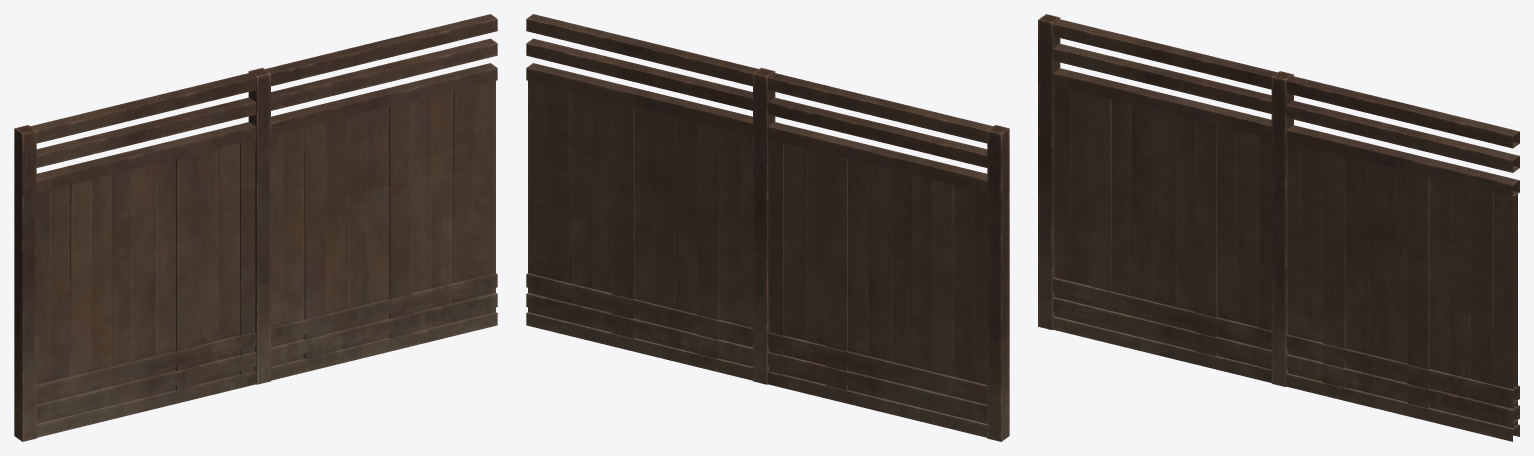
The model's file is Wall_07a.fbx.
3 renders of one model, left to right at view 1: azimuth 30°, elevation 25°; view 2: azimuth 150°, elevation 25°; view 3: azimuth 330°, elevation 25°, orthographic.
Visible parts, largest first — view 1: SM_cmn_build_Wall_07a.mo; view 2: SM_cmn_build_Wall_07a.mo; view 3: SM_cmn_build_Wall_07a.mo.
Part boxes in pixels (x1,y1,x2,y2): SM_cmn_build_Wall_07a.mo: [14, 14, 497, 441]; SM_cmn_build_Wall_07a.mo: [526, 14, 1009, 441]; SM_cmn_build_Wall_07a.mo: [1038, 14, 1519, 441].
Size of the model in its own units: 406 by 251 by 12.
1 material, 1 textured.
